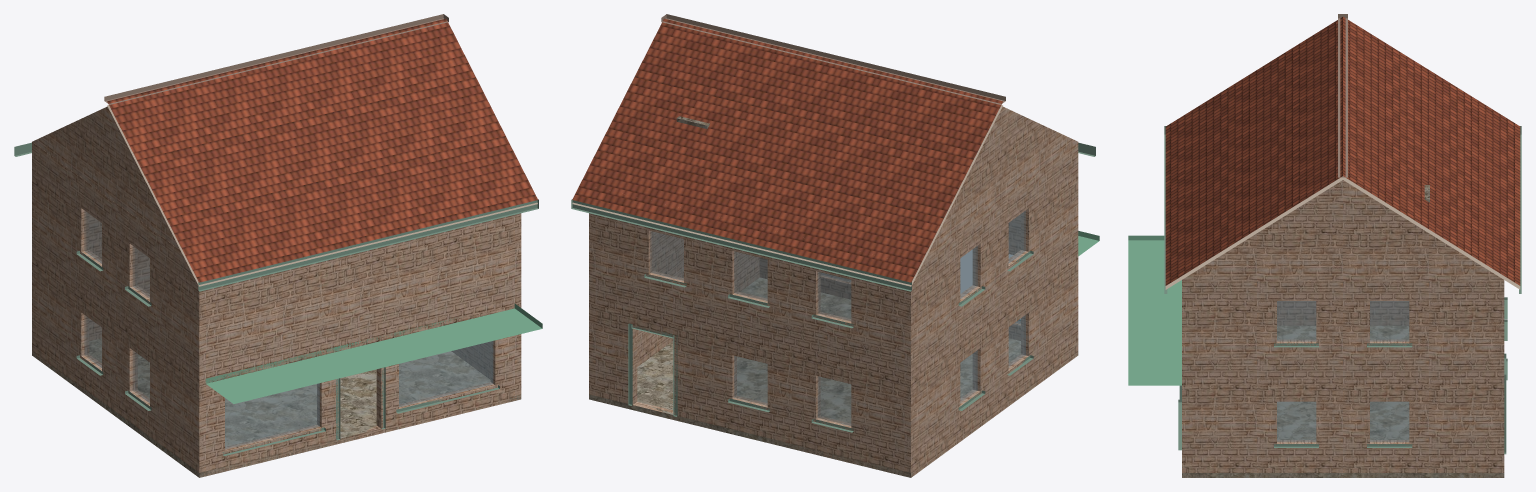
Rendered from village-store.loc-v1.lod1.glb.
The picture shows the model from 3 angles, left to right: view 1: azimuth 30°, elevation 25°; view 2: azimuth 150°, elevation 25°; view 3: azimuth 270°, elevation 25°; orthographic projection. The views are drawn at different scales.
Parts seen in each view (by area): view 1: village-store; view 2: village-store; view 3: village-store.
Boxes of the visible parts, x1,y1,x2,y2 form: village-store: [14, 14, 542, 477]; village-store: [571, 14, 1099, 477]; village-store: [1128, 14, 1521, 477].
Size of the model in its own units: 10.54 by 9.51 by 10.99.
Materials: 5 (3 with a texture image).
